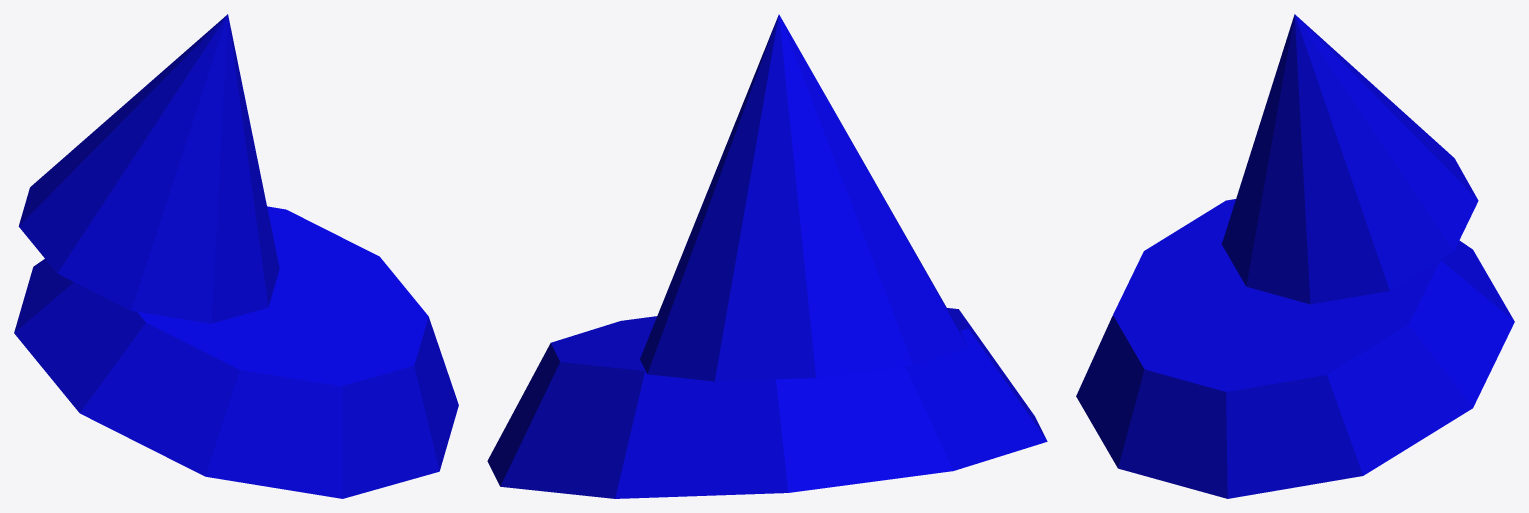
The model's file is enemy_cone.glb.
3 renders of one model, left to right at view 1: azimuth 30°, elevation 25°; view 2: azimuth 150°, elevation 25°; view 3: azimuth 270°, elevation 25°, orthographic. The views are drawn at different scales.
Visible parts, largest first — view 1: Cone; view 2: Cone; view 3: Cone.
Boxes of the visible parts, x1=… form: Cone: x1=14, y1=14, x2=458, y2=498; Cone: x1=487, y1=14, x2=1047, y2=498; Cone: x1=1076, y1=14, x2=1514, y2=498.
Bounding box in the file's own units: 0.9436 × 0.9818 × 0.9781.
